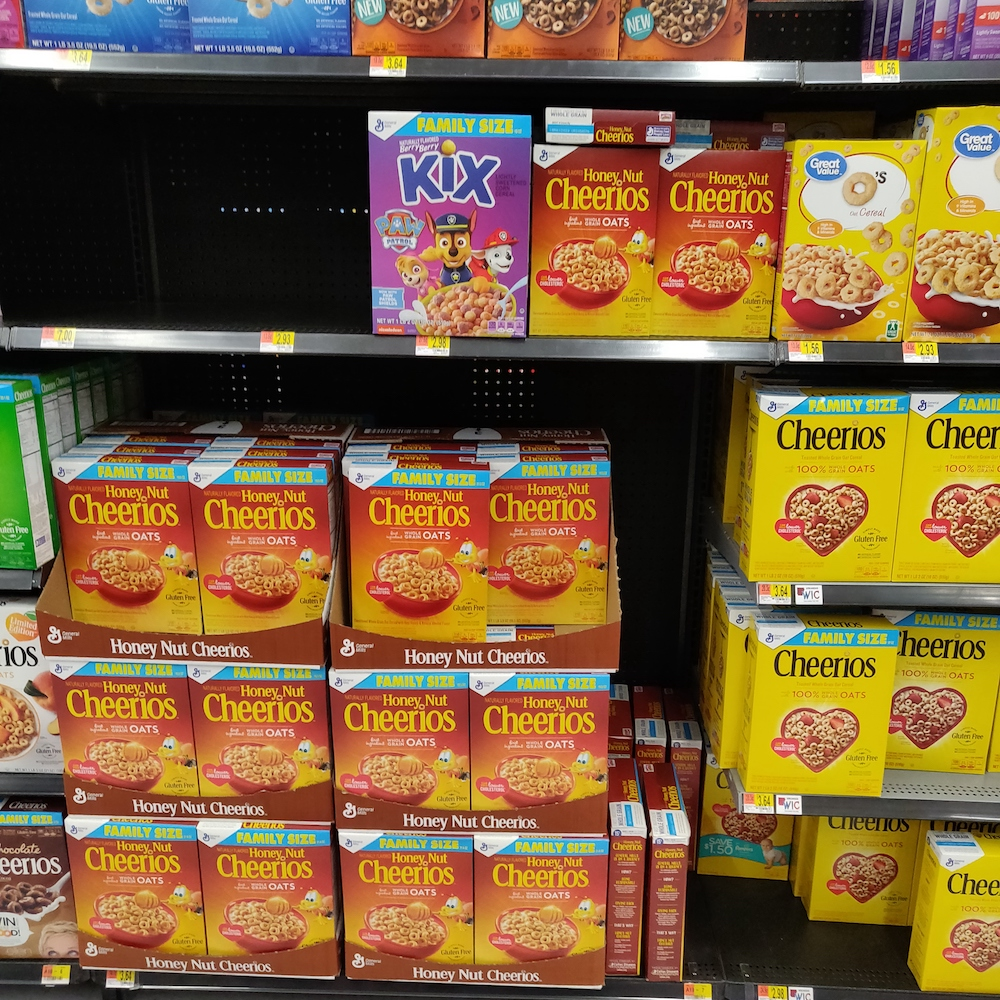Kix Berry -568919964: (375, 116, 543, 333)
